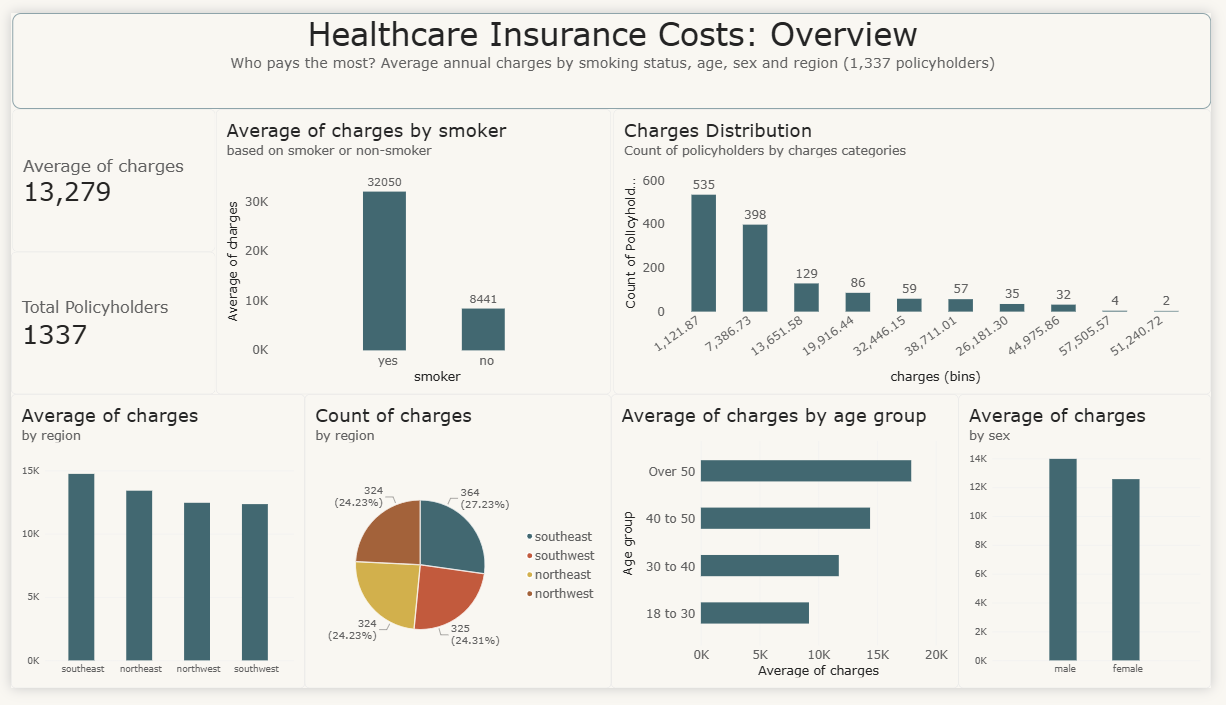

The page's visual inventory and layout, read from the dashboard file:
{"tool":"powerbi","page":{"name":"Overview","canvas":[1920,1080],"ordinal":0},"visuals":[{"type":"cardVisual","fields":{"Data":["insurance.Total Policyholders"]},"box":[0,381.8,327.5,228],"z":0},{"type":"columnChart","title":"Charges Distribution","fields":{"Category":["insurance.charges (bins)"],"Y":["CountNonNull(insurance.charges)"]},"box":[939.2,153.8,980.8,456],"z":1000},{"type":"columnChart","fields":{"Category":["insurance.smoker"],"Y":["Avg(insurance.charges)"]},"box":[327.5,153.8,611.7,456],"z":2000},{"type":"pieChart","fields":{"Y":["Avg(insurance.charges)"],"Category":["insurance.region"]},"box":[0,609.9,939.2,470.5],"z":3000},{"type":"barChart","title":"Average of charges by age group and sex","fields":{"Category":["insurance.age_group"],"Y":["Avg(insurance.charges)"],"Series":["insurance.sex"]},"box":[939.2,609.9,980.8,470.5],"z":4000},{"type":"cardVisual","title":" bgvcvg","fields":{"Data":["Avg(insurance.charges)"]},"box":[1.8,153.8,325.7,228],"z":5000},{"type":"textbox","title":"Healthcare Insurance Costs: Overview","box":[1.8,0,1918.2,153.8],"z":6000}]}

Visuals, with their boxes in screenshot pixels (x1, y1, x2, y2), scaled from the page's 1920x1080 canvas onto the 1226x705 screenshot:
cardVisual - insurance.Total Policyholders: box=[0, 249, 209, 398]
"Charges Distribution" columnChart: box=[600, 100, 1225, 398]
columnChart - insurance.smoker x Avg(insurance.charges): box=[209, 100, 600, 398]
pieChart - Avg(insurance.charges) x insurance.region: box=[0, 398, 600, 704]
"Average of charges by age group and sex" barChart: box=[600, 398, 1225, 704]
" bgvcvg" cardVisual: box=[1, 100, 209, 249]
"Healthcare Insurance Costs: Overview" textbox: box=[1, 0, 1225, 100]
